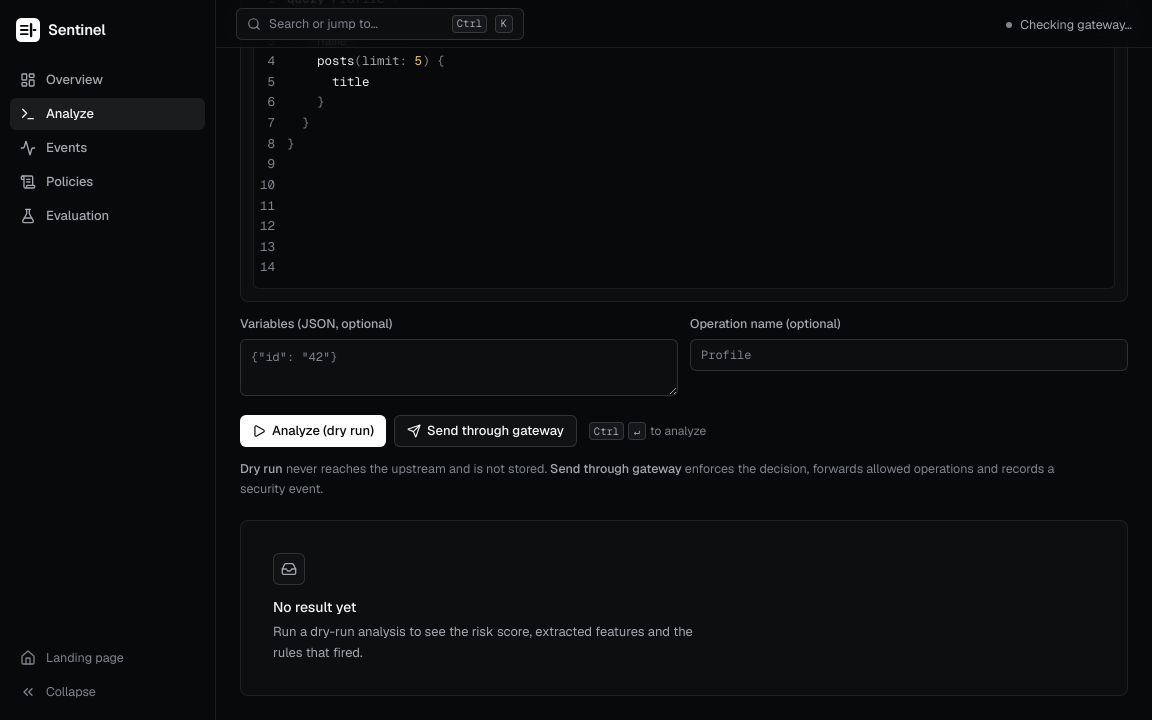
Test: flags simulated responses explicitly
This screenshot has width=1152, height=720.
(page scrolled)
Click the button "Send through gateway": coordinates (485, 431) [394,415,577,447]
(page scrolled)
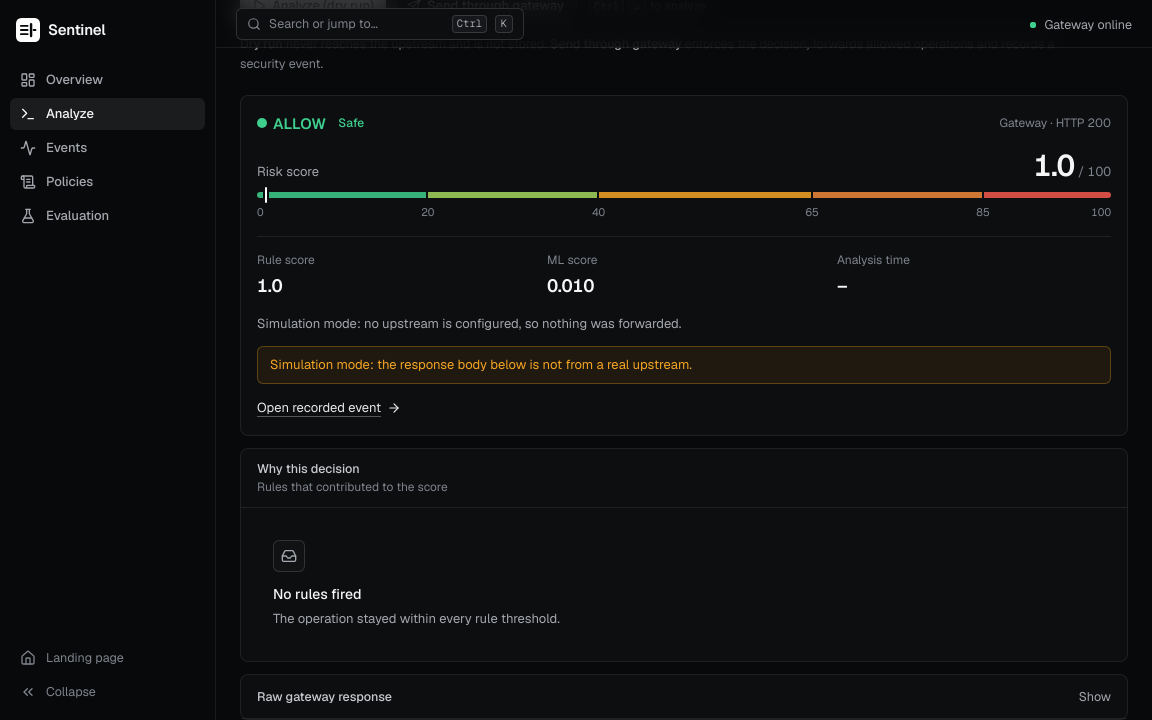
Result: the text "Simulation mode: the response body below is not from a real upstream" is shown at [270,356,692,373]
